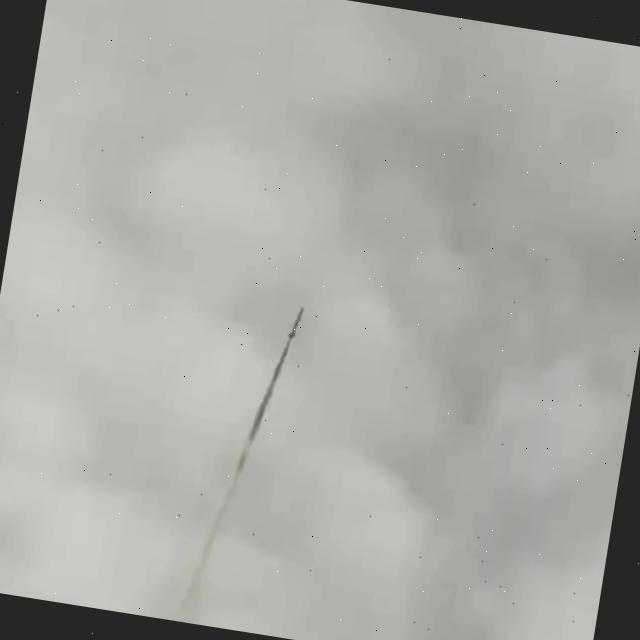smoke_trail_with_rocket: (173, 307, 304, 624)
